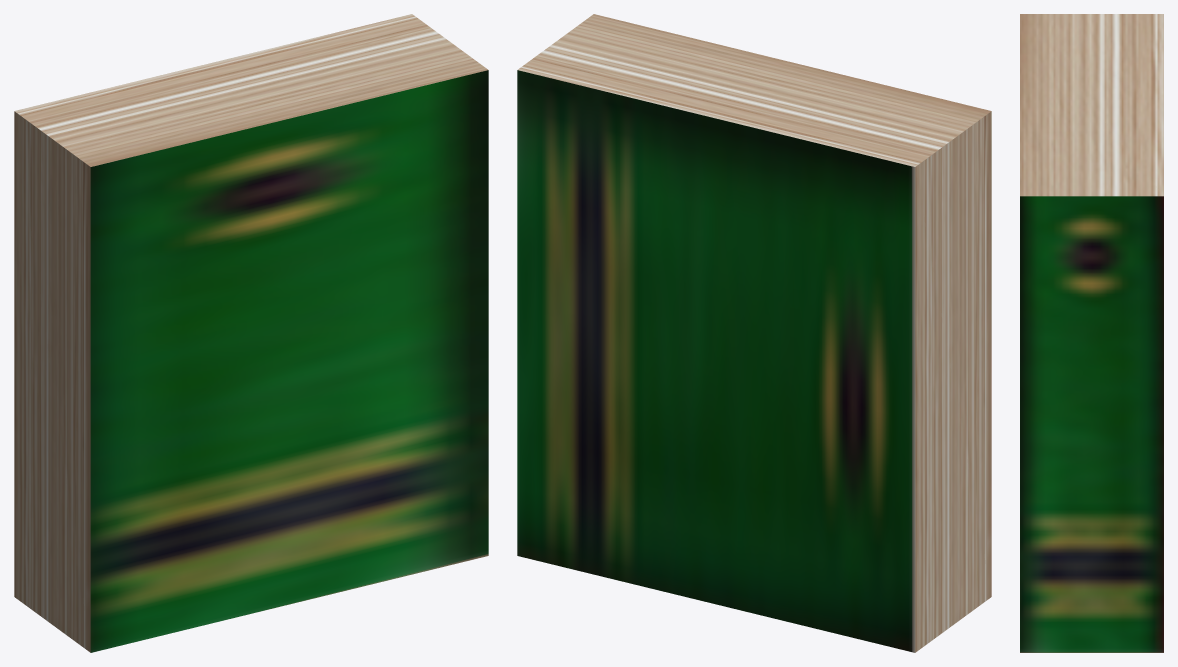
Rendered from book_i.glb.
3 renders of one model, left to right at view 1: azimuth 30°, elevation 25°; view 2: azimuth 150°, elevation 25°; view 3: azimuth 270°, elevation 25°, orthographic. The views are drawn at different scales.
Parts seen in each view (by area): view 1: Cubo.071; view 2: Cubo.071; view 3: Cubo.071.
Boxes of the visible parts, x1,y1,x2,y2 form: Cubo.071: (14, 14, 488, 652); Cubo.071: (517, 14, 991, 652); Cubo.071: (1020, 14, 1163, 652).
Size of the model in its own units: 0.3 by 0.35 by 0.1.
Materials: 1 (1 with a texture image).
